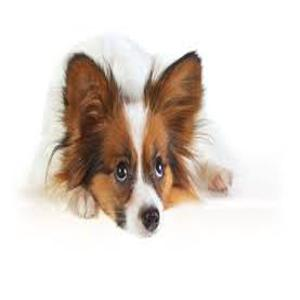yell: (28, 51, 234, 239)
